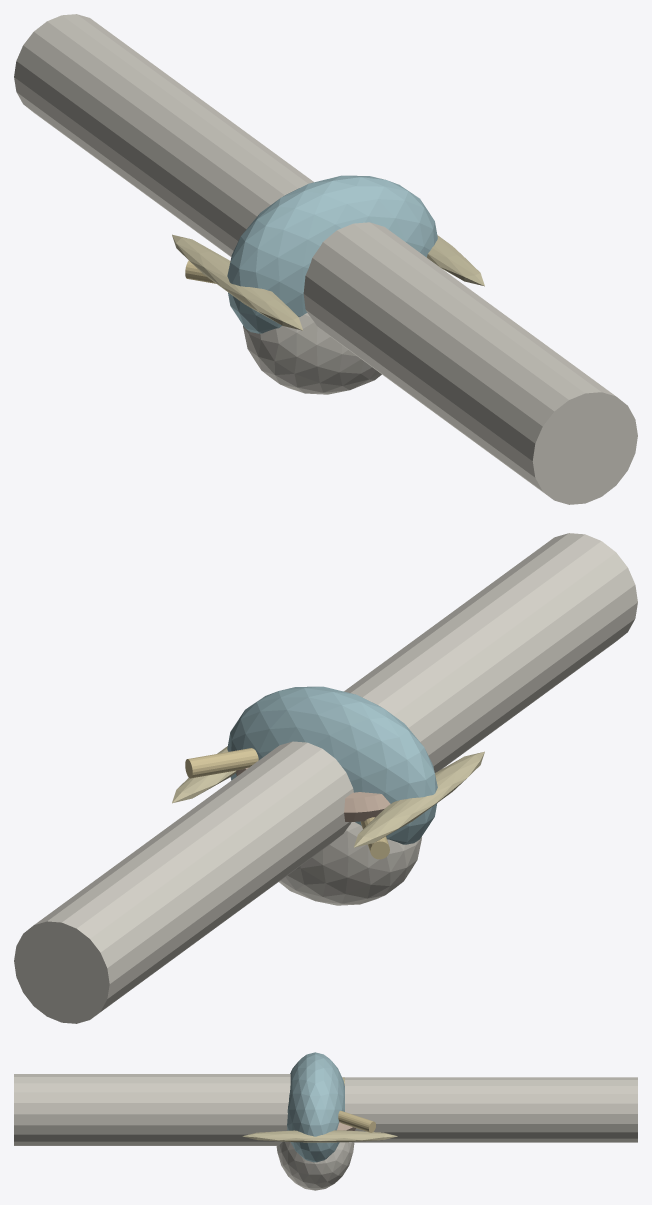
The model's file is knee-medium.glb.
The picture shows the model from 3 angles, top to bottom: view 1: azimuth 30°, elevation 25°; view 2: azimuth 150°, elevation 25°; view 3: azimuth 270°, elevation 25°; orthographic projection. The views are drawn at different scales.
Visible parts, largest first — view 1: femur_distal, tibia, knee_cartilage_proxy, patella, medial_collateral_ligament_proxy, lateral_collateral_ligament_proxy; view 2: tibia, femur_distal, knee_cartilage_proxy, patella, medial_collateral_ligament_proxy, pcl_proxy, meniscus_proxy, lateral_collateral_ligament_proxy; view 3: femur_distal, tibia, knee_cartilage_proxy, patella, lateral_collateral_ligament_proxy, pcl_proxy.
Boxes of the visible parts, x1=… form: femur_distal: x1=303, y1=222, x2=637, y2=504; tibia: x1=14, y1=14, x2=313, y2=256; knee_cartilage_proxy: x1=227, y1=175, x2=437, y2=333; patella: x1=243, y1=313, x2=381, y2=394; medial_collateral_ligament_proxy: x1=172, y1=234, x2=302, y2=330; lateral_collateral_ligament_proxy: x1=427, y1=235, x2=484, y2=286; tibia: x1=14, y1=741, x2=353, y2=1023; femur_distal: x1=344, y1=533, x2=637, y2=772; knee_cartilage_proxy: x1=227, y1=686, x2=437, y2=844; patella: x1=279, y1=822, x2=421, y2=905; medial_collateral_ligament_proxy: x1=354, y1=751, x2=484, y2=847; pcl_proxy: x1=185, y1=748, x2=258, y2=778; meniscus_proxy: x1=236, y1=767, x2=390, y2=821; lateral_collateral_ligament_proxy: x1=172, y1=746, x2=236, y2=803; femur_distal: x1=14, y1=1074, x2=290, y2=1145; tibia: x1=345, y1=1077, x2=637, y2=1142; knee_cartilage_proxy: x1=287, y1=1052, x2=344, y2=1162; patella: x1=276, y1=1141, x2=354, y2=1190; lateral_collateral_ligament_proxy: x1=242, y1=1130, x2=397, y2=1142; pcl_proxy: x1=338, y1=1110, x2=375, y2=1132.
Bounding box in the file's own units: 0.8957 × 0.83 × 3.79.
